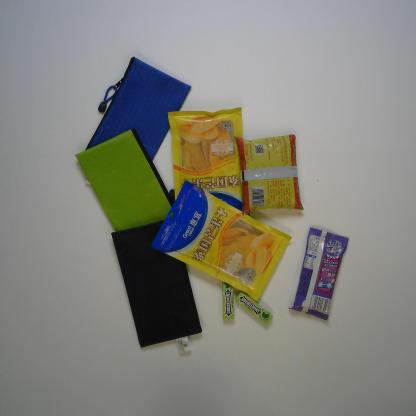Candy: (288, 226, 349, 321)
Dried Fruit: (151, 180, 292, 302), (167, 107, 246, 227)
Gum: (234, 290, 273, 326), (222, 278, 235, 320)
Seasoner: (235, 134, 304, 217)
Stationery: (83, 56, 193, 187), (111, 216, 202, 357), (74, 128, 179, 248)
